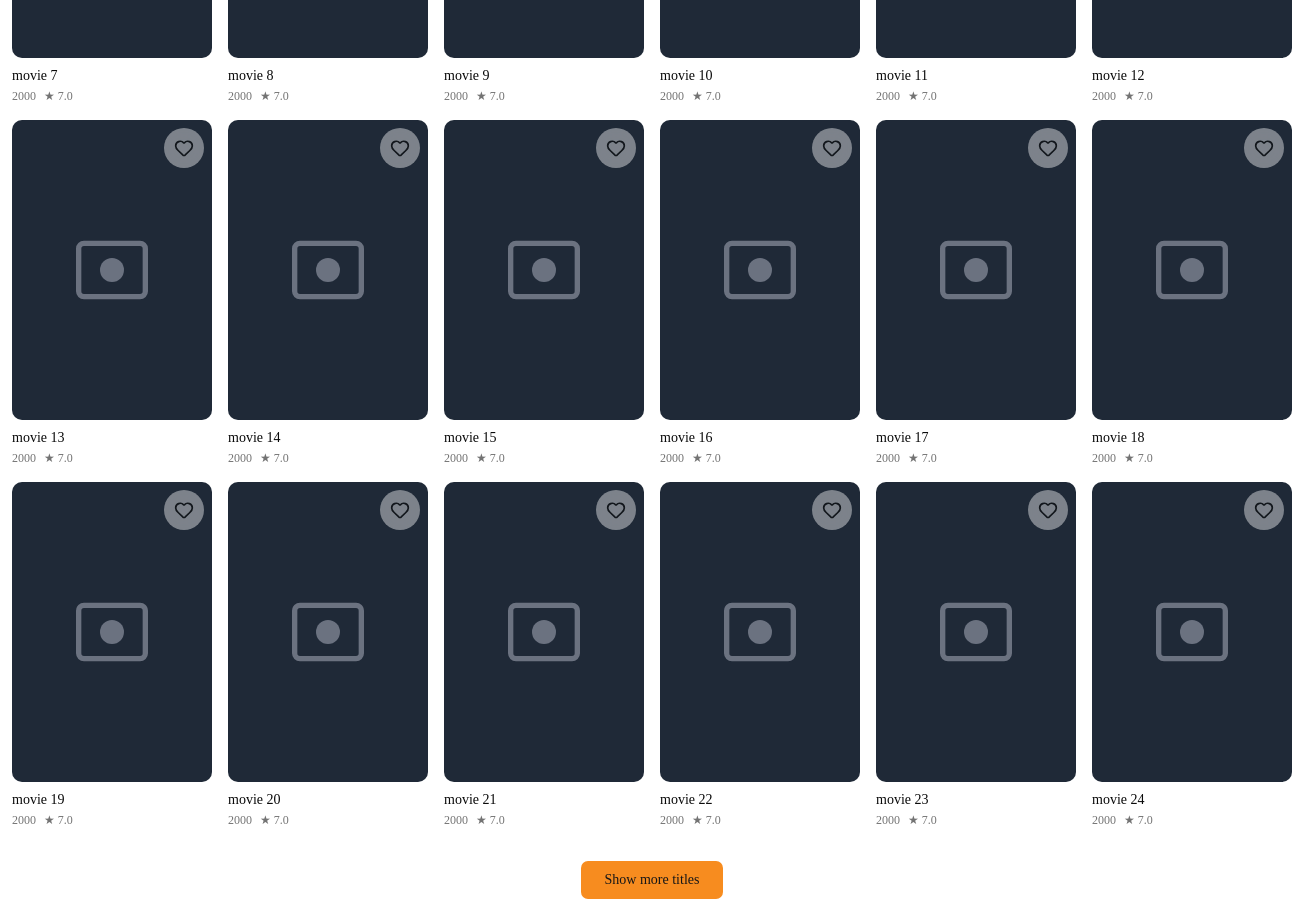
Scenario: PersonCredits › shows 24 cards first and reveals 24 more per click
(page scrolled)
Click the button "Show more titles".
click(652, 880)  # box [580,860,724,899]
(page scrolled)
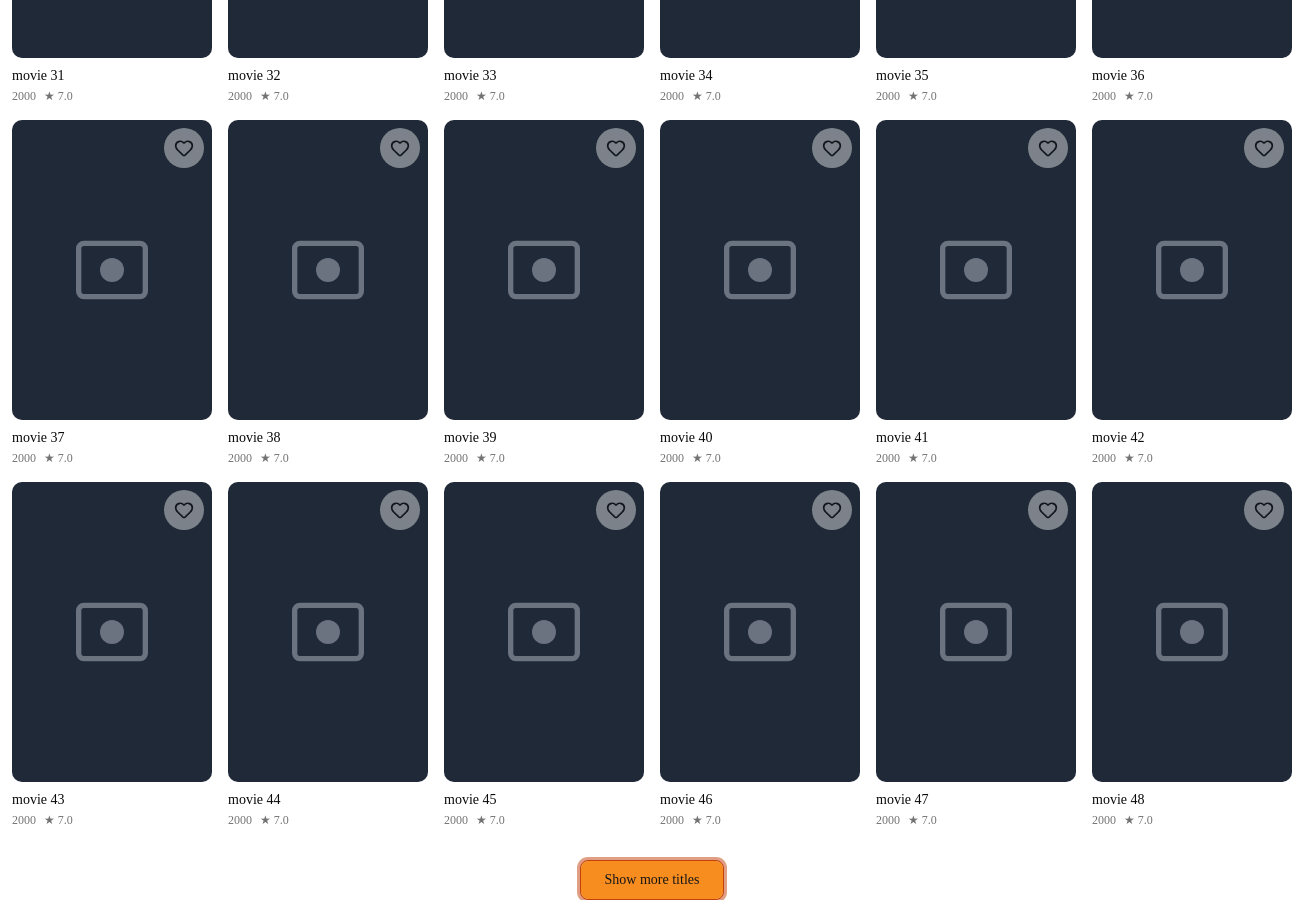
Click the button "Show more titles".
click(652, 880)  # box [580,860,724,899]
(page scrolled)
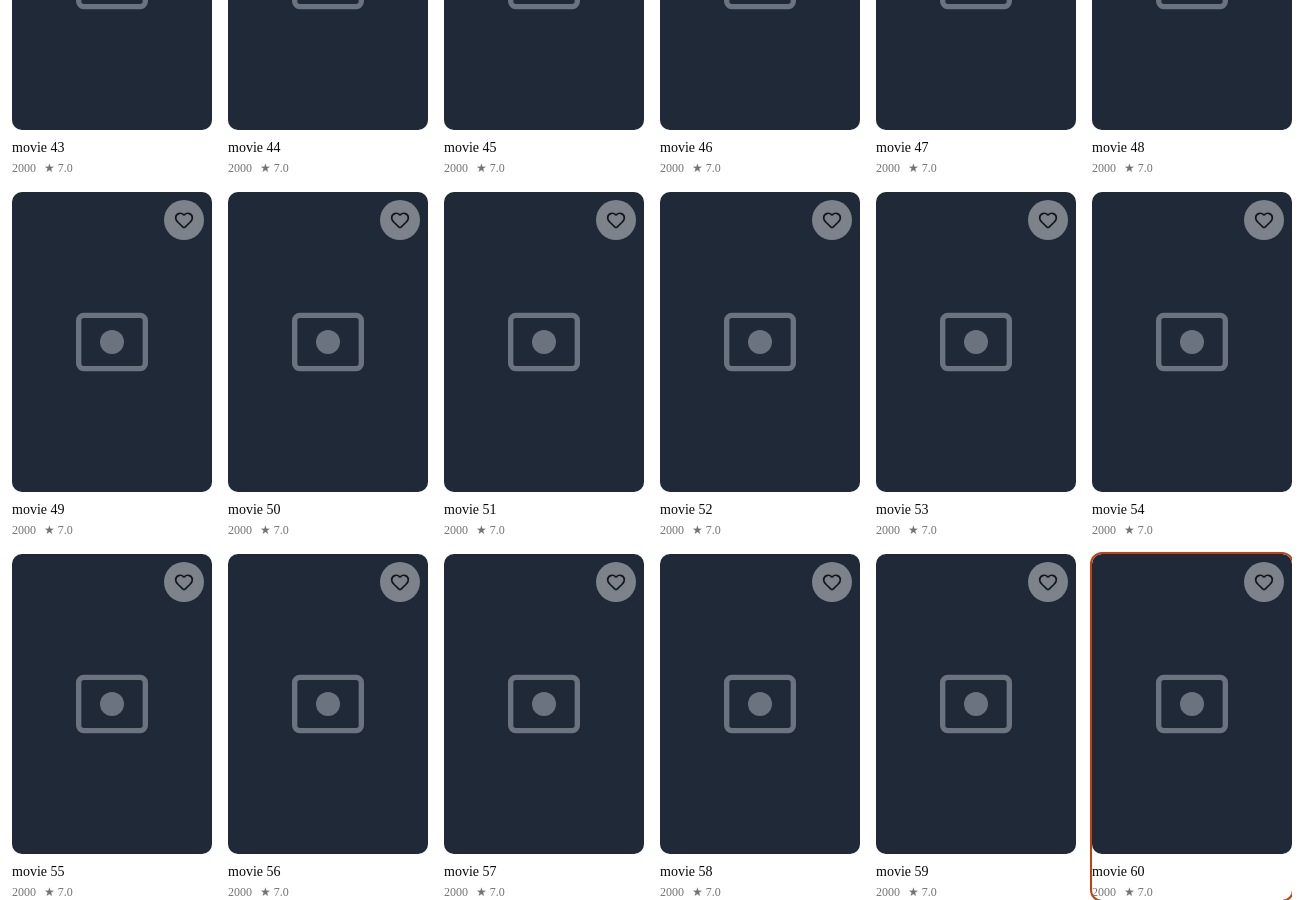
Expected: the button "Show more titles" is gone
